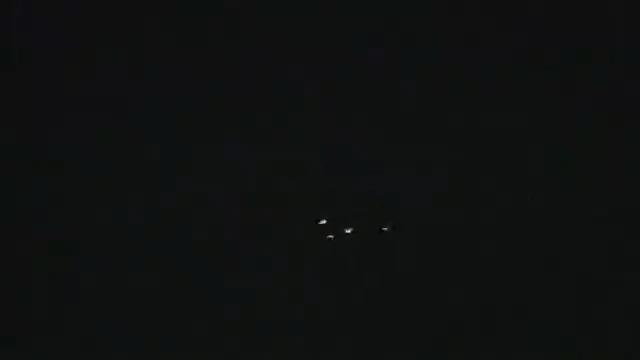Plane: (302, 214, 363, 243)
